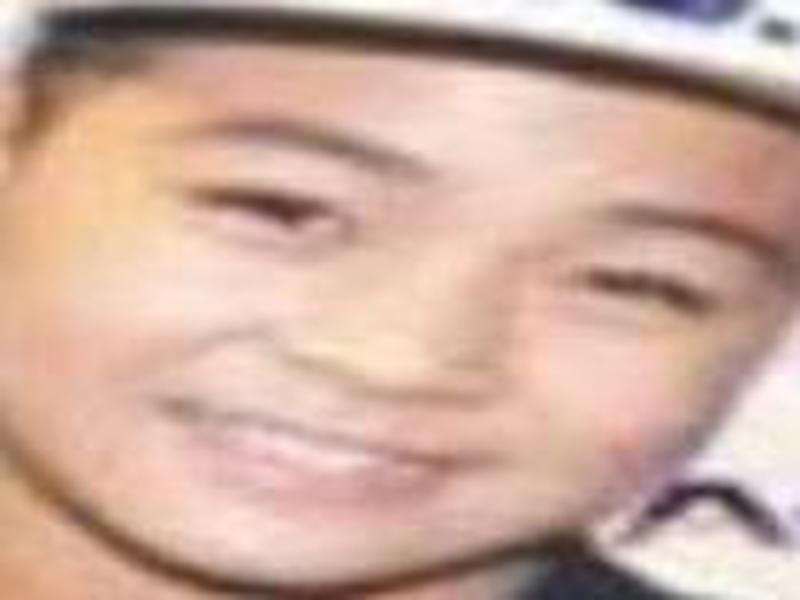without_mask: (1, 27, 791, 591)
